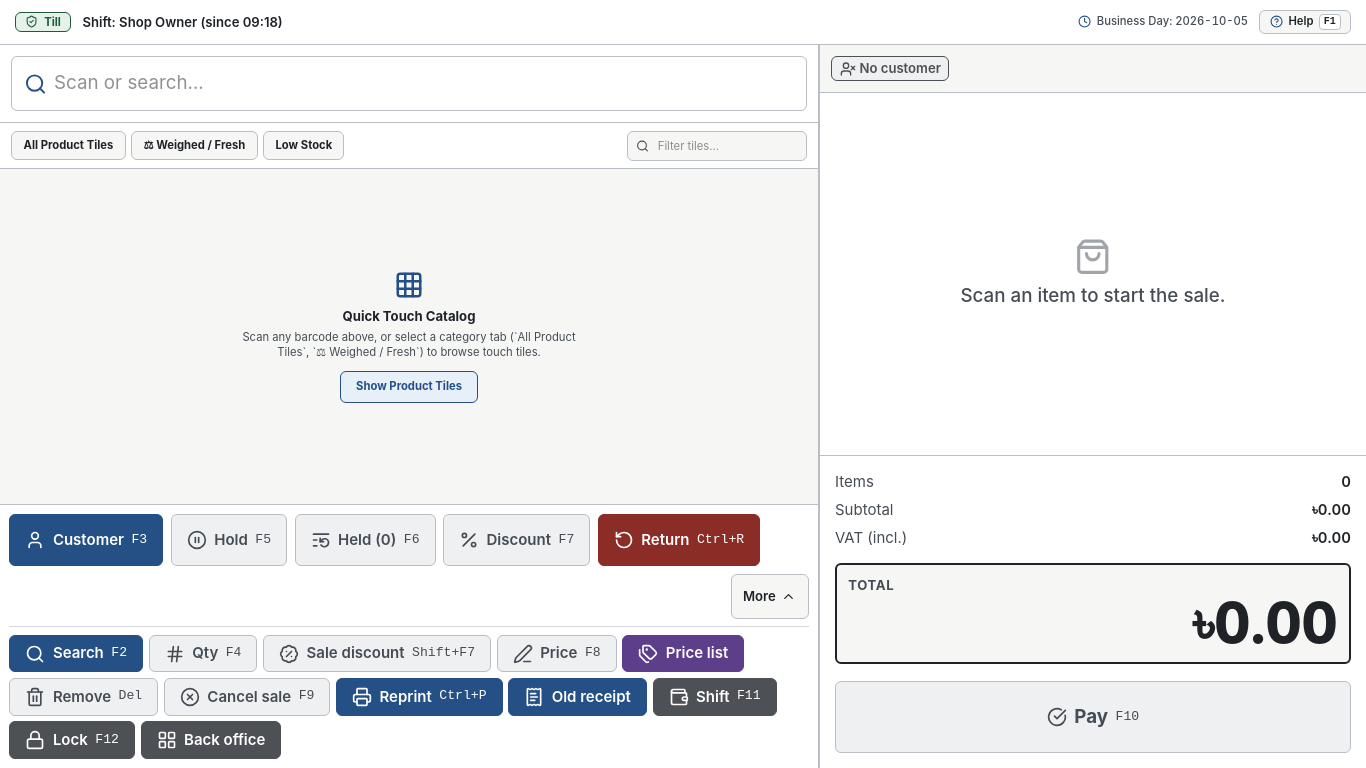
Test case: Returns, exchanges and voids (fake bridge) › ret_04: a sale from this shift is voided with a reason
Check: the text "Scan an item to start the sale." is shown, box left=960, top=283, right=1226, bottom=310
Type keys "{Control>}r{/Control}"
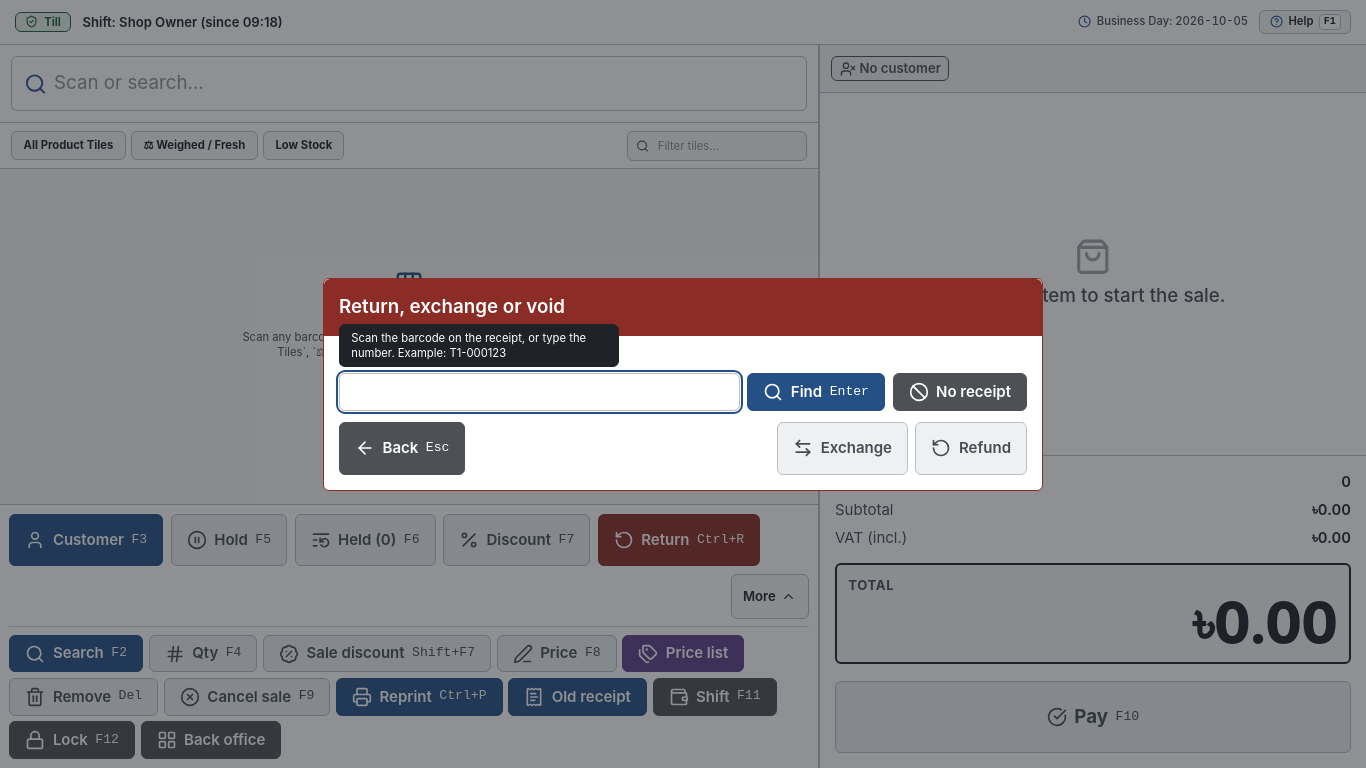
Type "T1-000001" into the field labelled "Invoice number" at (539, 392), box left=339, top=373, right=740, bottom=411
Then press Enter
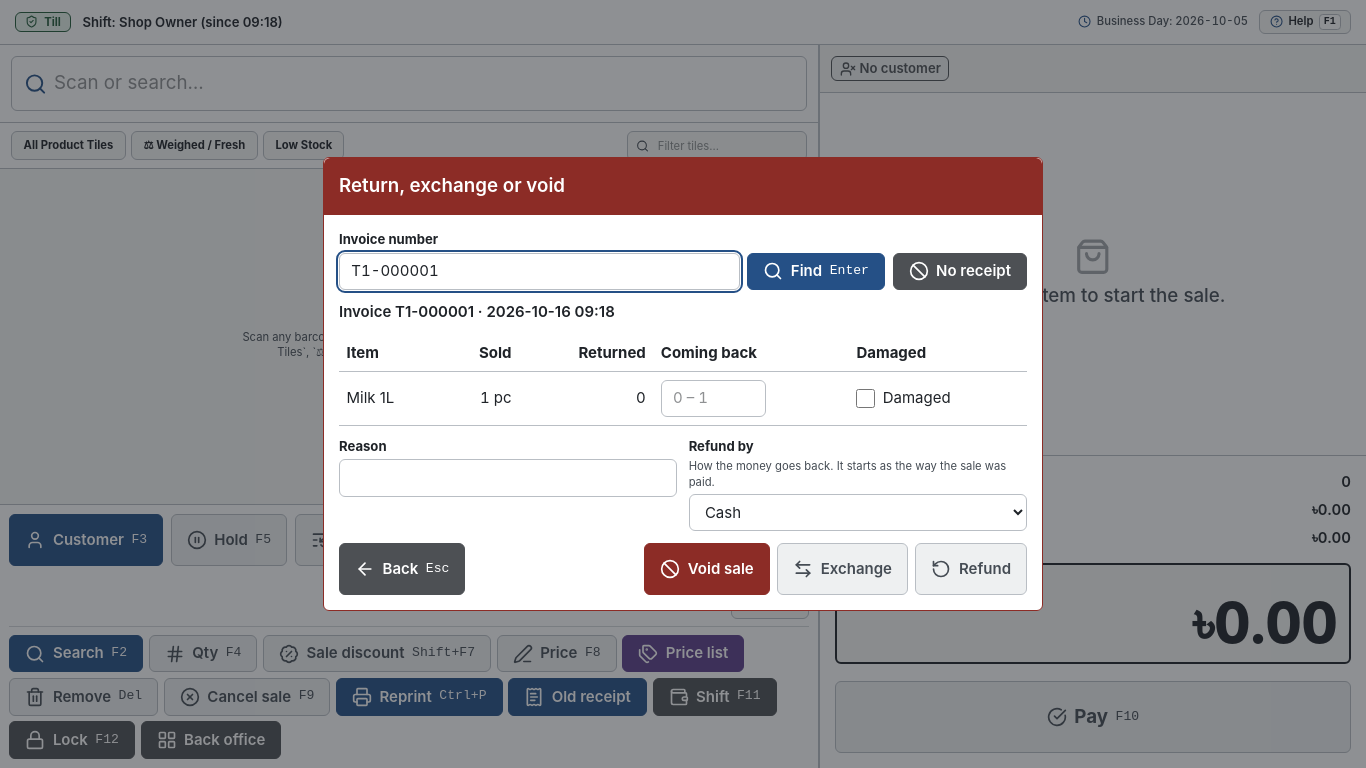
Check: the text "Invoice T1-000001 · 2026-10-16 09:18" is shown, box left=339, top=302, right=615, bottom=321
Click the button "Void sale" at (707, 569), box left=644, top=543, right=770, bottom=595
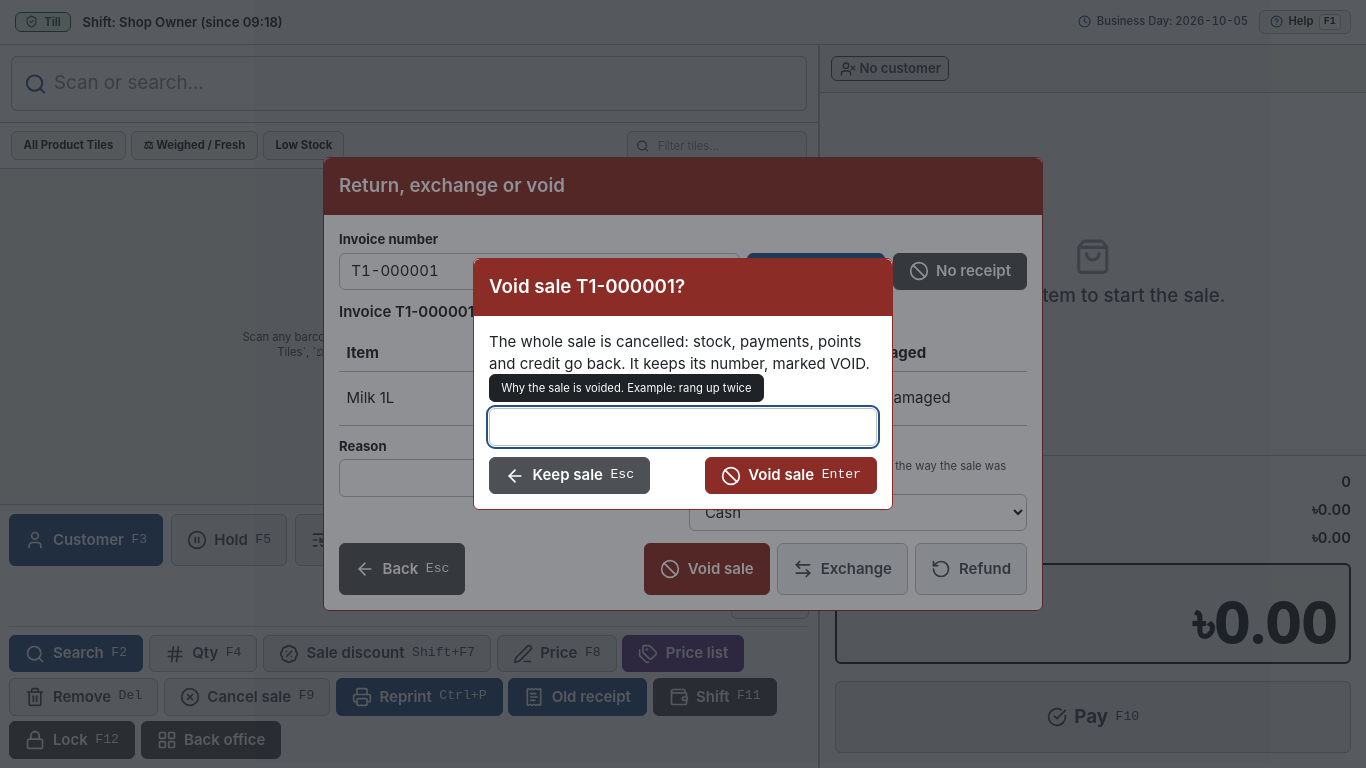
Type "Rang up twice" into the field labelled "Reason" at (683, 427), box left=489, top=408, right=877, bottom=446
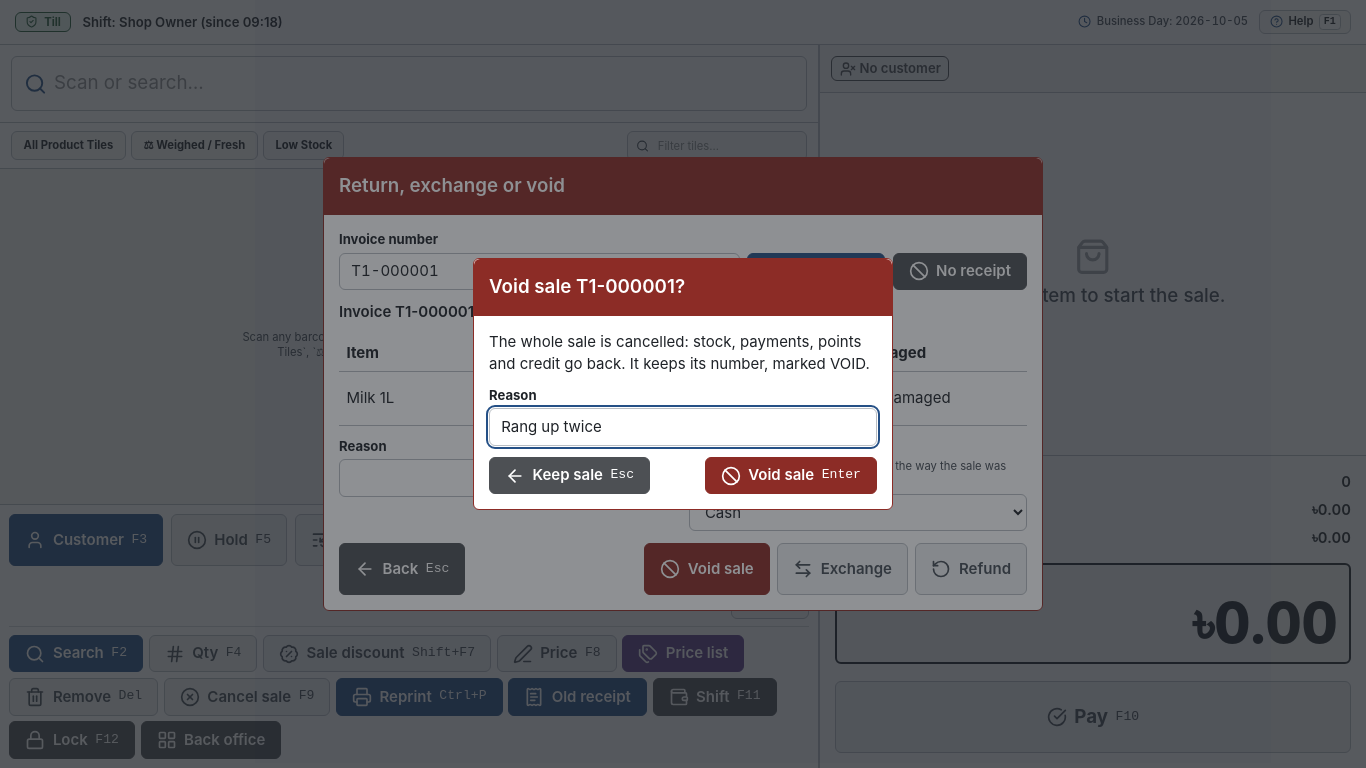
Click the button "Void sale Enter" at (791, 476), box left=705, top=457, right=877, bottom=494
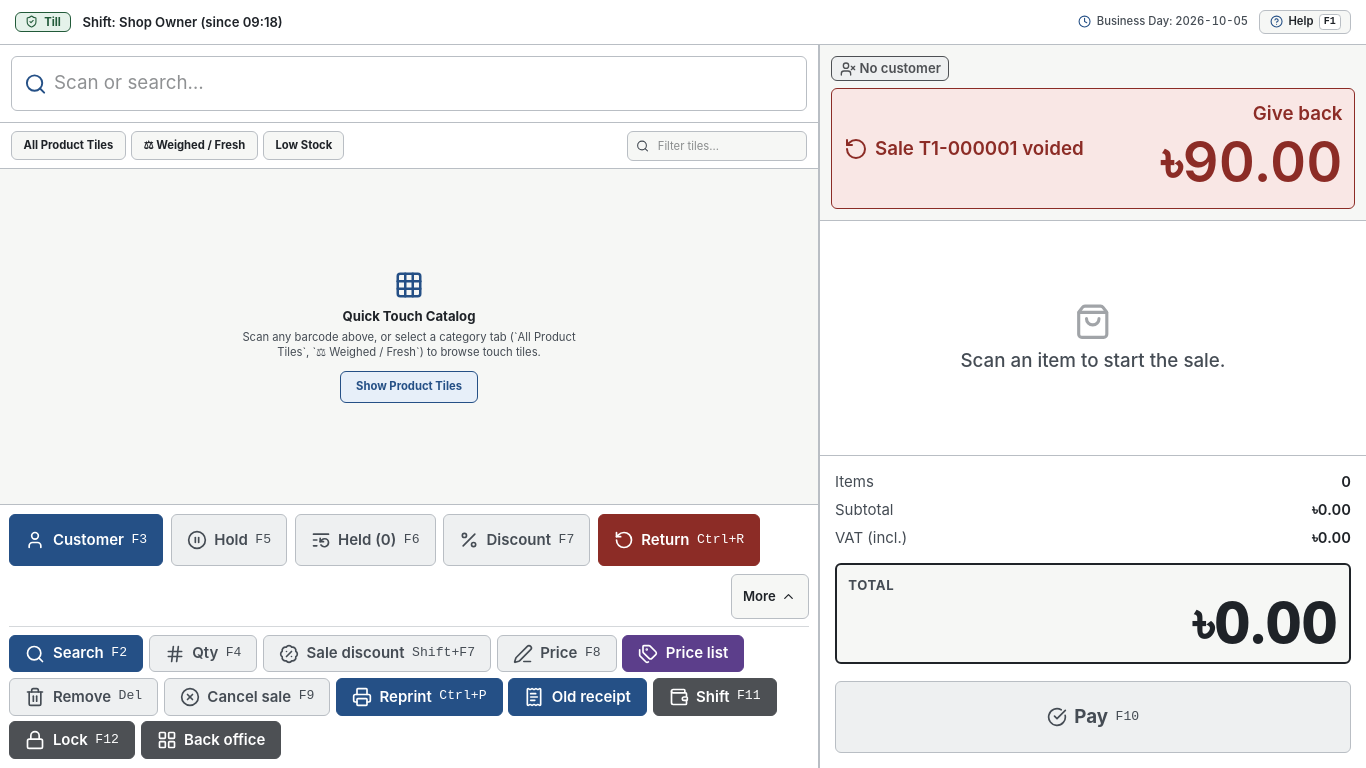
Check: the text "Sale T1-000001 voided" is shown, box left=844, top=136, right=1084, bottom=162
